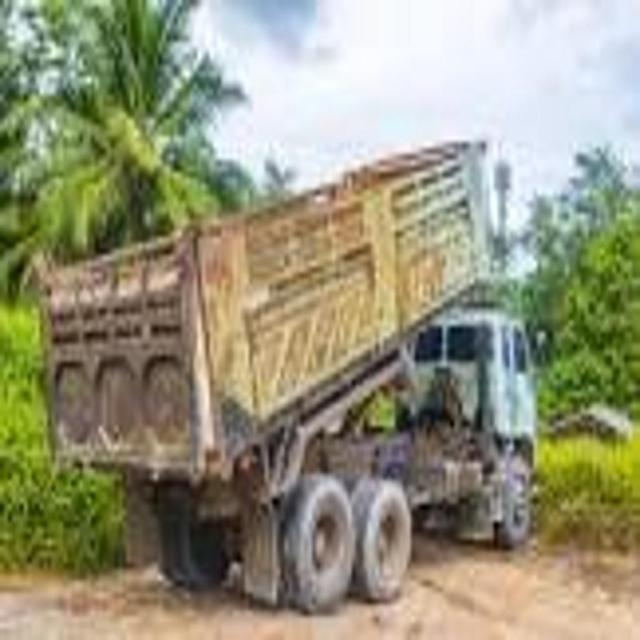dump_truck: (31, 128, 541, 640)
